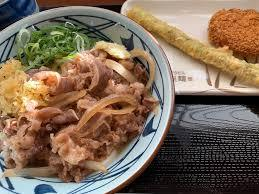niku: (1, 4, 175, 191)
